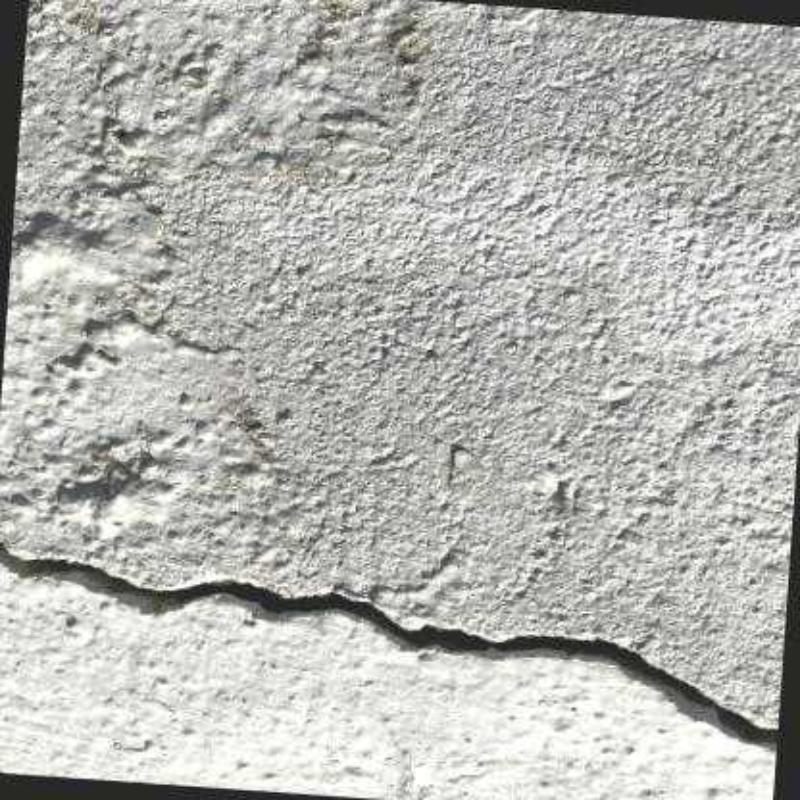pothole: (0, 539, 778, 752)
